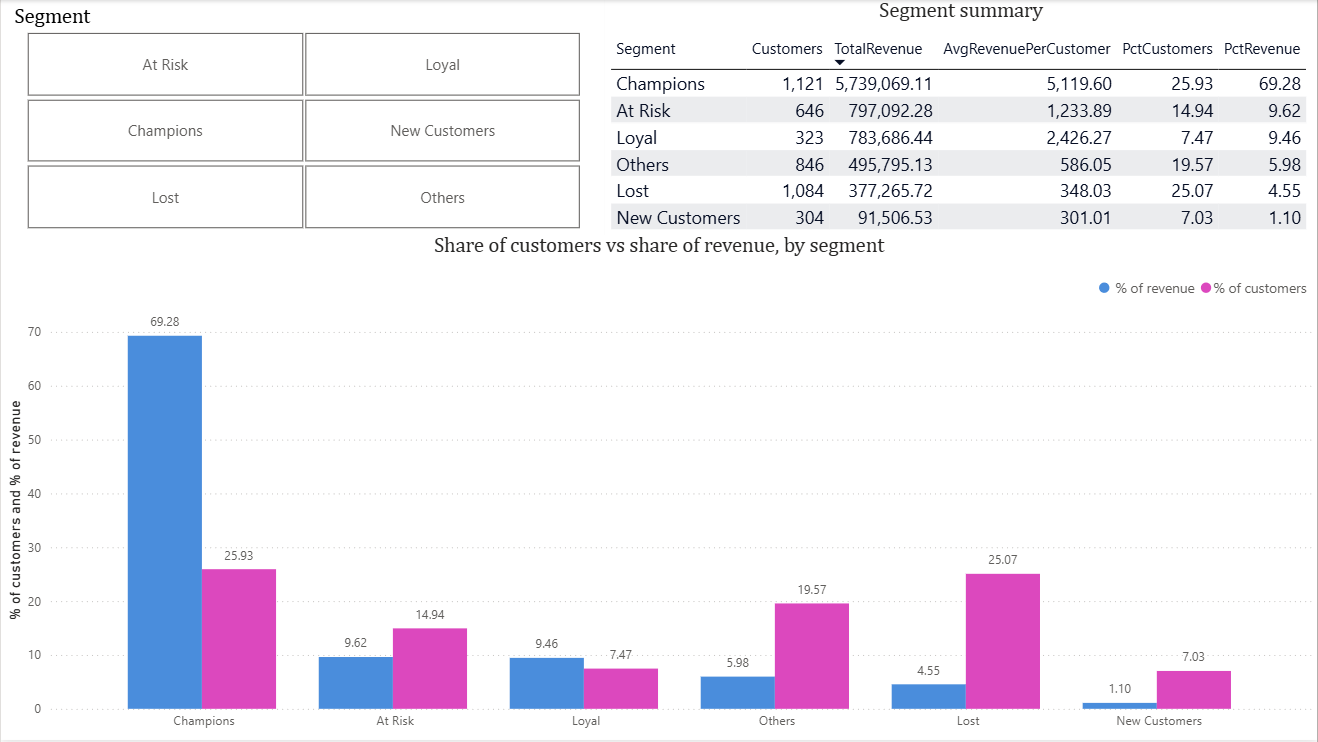

This screenshot's page, from the dashboard's own definition file:
{"tool":"powerbi","page":{"name":"Page 4","canvas":[1280,720],"ordinal":3},"visuals":[{"type":"clusteredColumnChart","title":"Share of customers vs share of revenue, by segment","fields":{"Category":["segment_summary.Segment"],"Y":["Sum(segment_summary.PctRevenue)","Sum(segment_summary.PctCustomers)"]},"box":[0,228.6,1280,491.2],"z":0},{"type":"tableEx","title":"Segment summary","fields":{"Values":["segment_summary.Segment","segment_summary.Customers","segment_summary.TotalRevenue","segment_summary.AvgRevenuePerCustomer","segment_summary.PctCustomers","segment_summary.PctRevenue"]},"box":[587.5,0,692.5,228.6],"z":1000},{"type":"slicer","fields":{"Values":["segment_summary.Segment"]},"box":[0,0,587.5,228.6],"z":2000}]}

Visuals, with their boxes in screenshot pixels (x1, y1, x2, y2), scaled from the page's 1280x720 canvas onto the 1318x742 screenshot:
"Share of customers vs share of revenue, by segment" clusteredColumnChart: select_region(0, 236, 1317, 741)
"Segment summary" tableEx: select_region(605, 0, 1317, 236)
slicer - segment_summary.Segment: select_region(0, 0, 605, 236)
